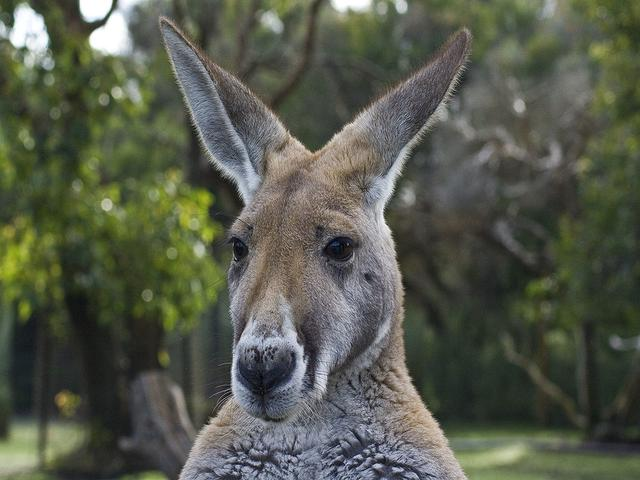kangaroo: (127, 10, 500, 480)
